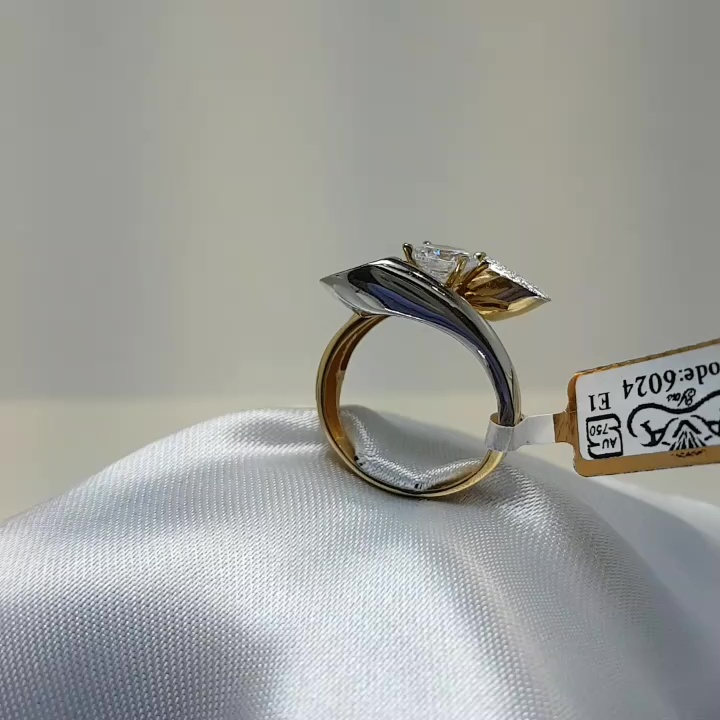Ring 7: (299, 230, 562, 523)
